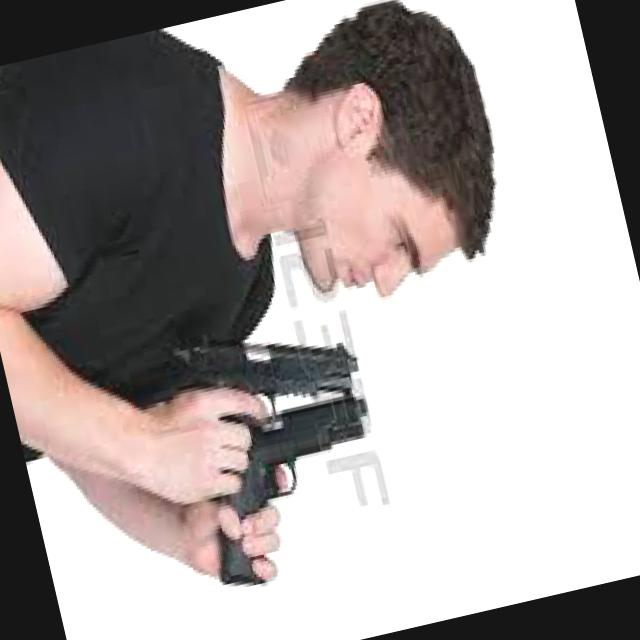handgun: (184, 384, 398, 588), (164, 292, 366, 434)
